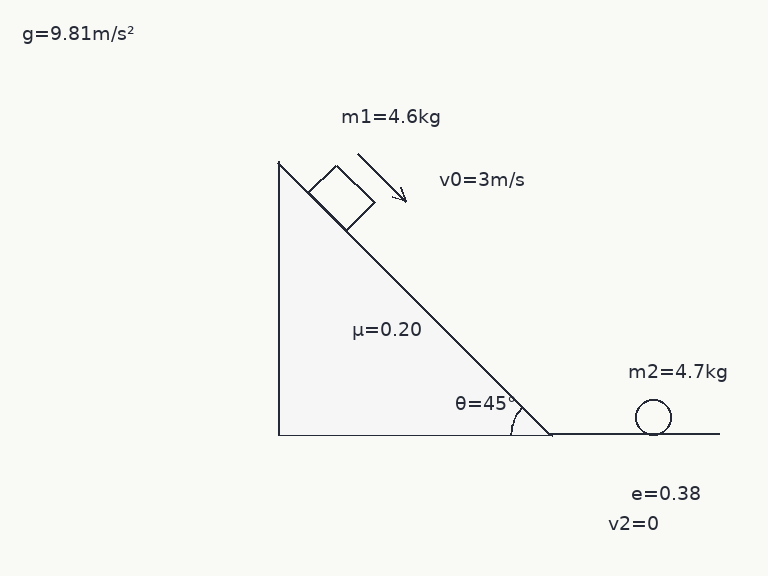ball: (633, 397, 673, 437)
block: (306, 163, 376, 232)
ramp: (275, 159, 553, 437)
